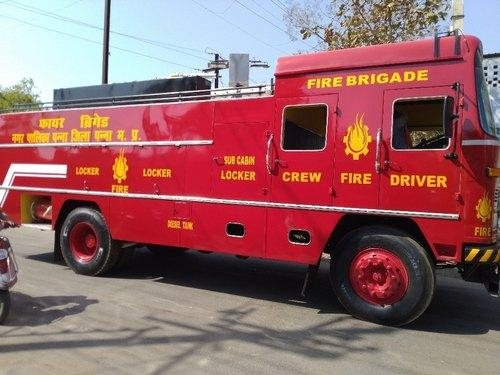Emergency-Vehicles: (19, 45, 499, 306)
